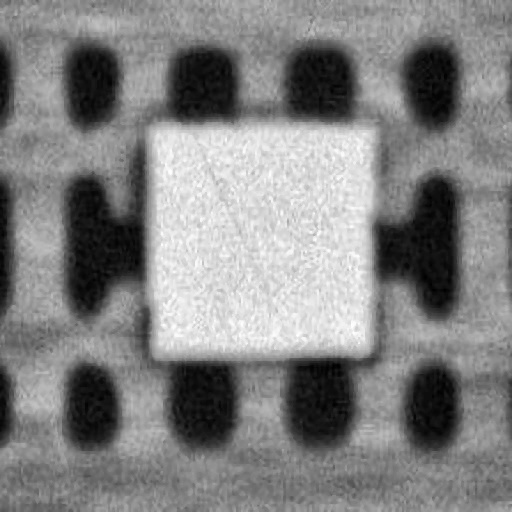DIE_CRACK: (286, 87, 432, 227)
